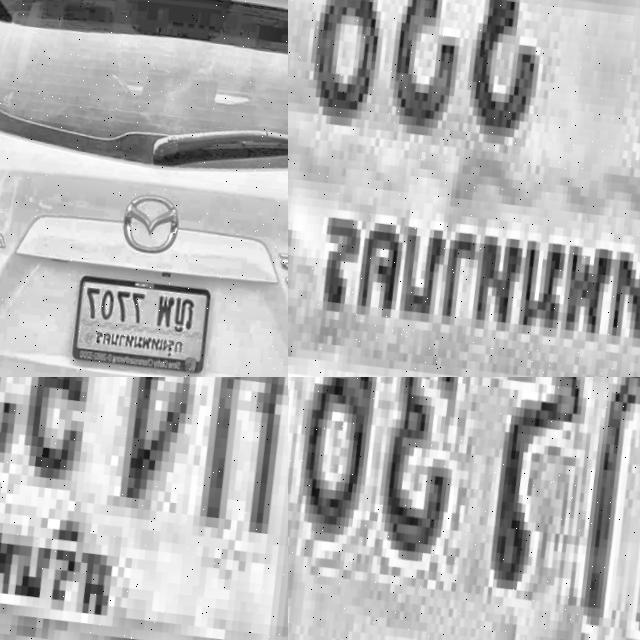license-plate: (288, 0, 640, 377), (288, 377, 640, 640), (0, 377, 288, 640), (61, 267, 216, 377)
